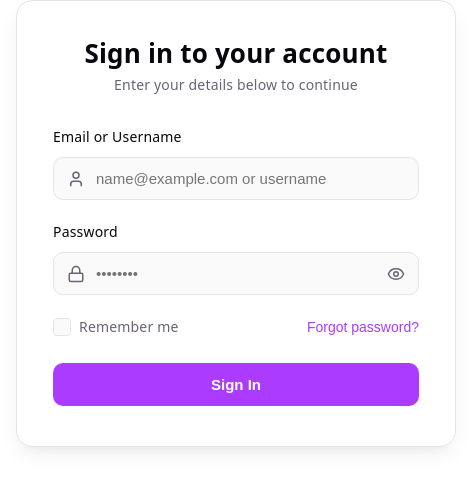
Test case: LoginForm Component › validates invalid email format
Type "invalid-email@" into the field labelled "Email or Username".
click(236, 178); type("invalid-email@")  # box [53,157,419,200]
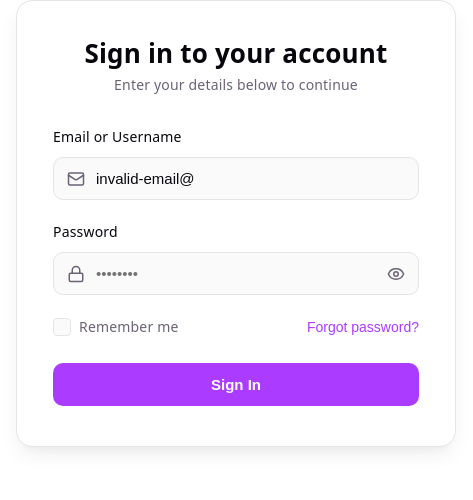
Type "secret123" into the password field labelled "Password".
click(236, 274); type("secret123")  # box [53,252,419,295]
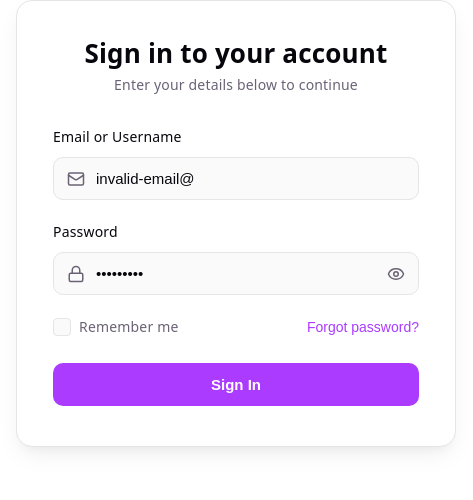
Click the button "Sign In".
click(236, 384)  # box [53,363,419,406]
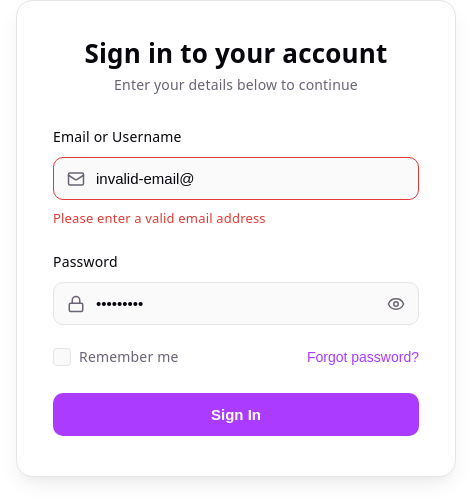
Expected: the text "Please enter a valid email address" is shown, [53,209,266,227]
